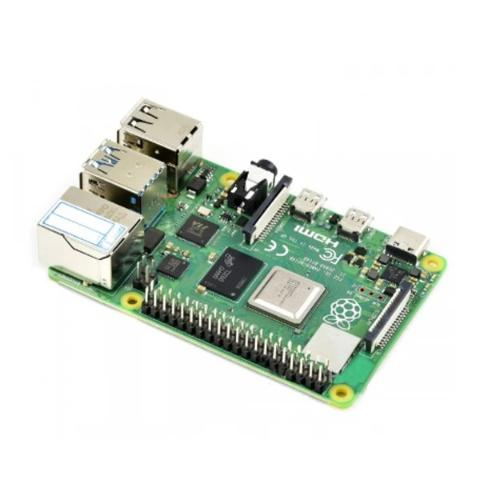Raspberry-Pi-4-Model-B: (32, 93, 450, 417)
